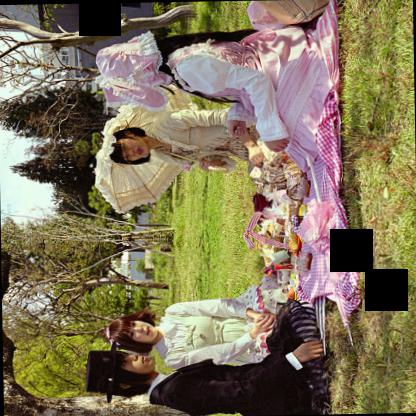handbag: (257, 0, 330, 26), (252, 192, 271, 223)
